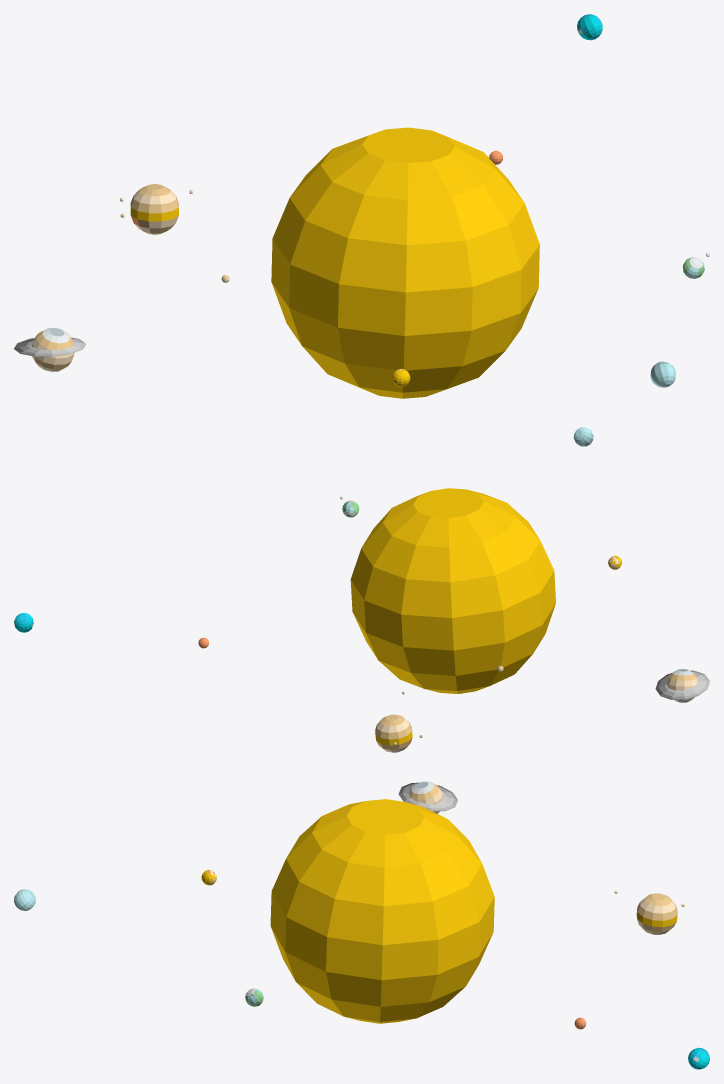
The model's file is solar.glb.
3 renders of one model, top to bottom at view 1: azimuth 30°, elevation 25°; view 2: azimuth 150°, elevation 25°; view 3: azimuth 270°, elevation 25°, orthographic. The views are drawn at different scales.
Visible parts, largest first — view 1: Node; view 2: Node; view 3: Node.
Part boxes in pixels (left/top/right/bottom): Node: left=14, top=14, right=709, bottom=398; Node: left=14, top=427, right=709, bottom=752; Node: left=14, top=781, right=709, bottom=1069.
Size of the model in its own units: 4.24 by 1.34 by 4.11.
